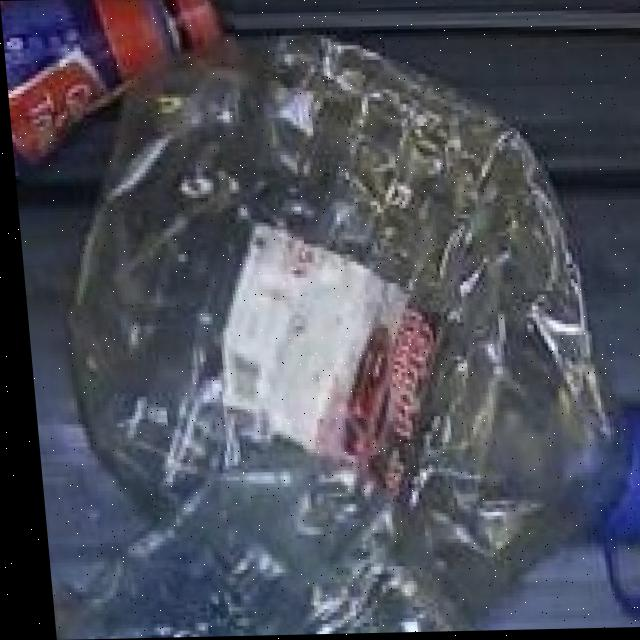litter: (596, 402, 640, 592), (163, 0, 236, 57)
